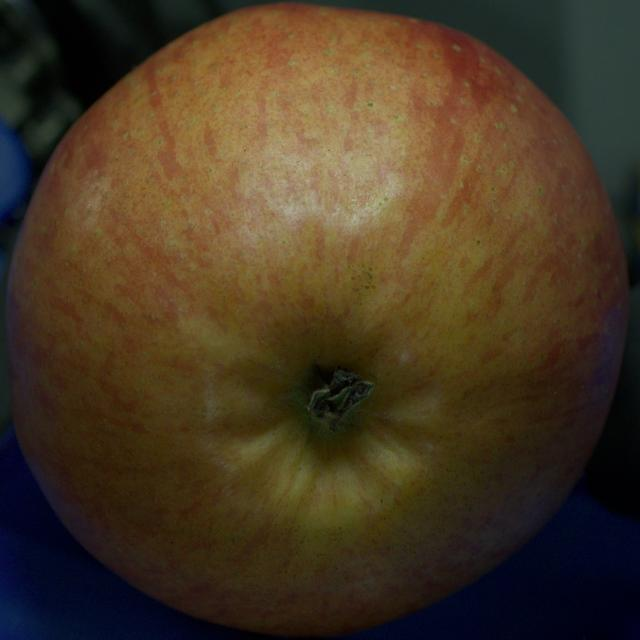apple: (7, 4, 628, 635)
